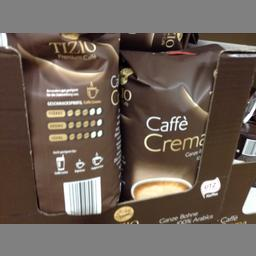coffee: (7, 32, 120, 215), (119, 44, 225, 198)
